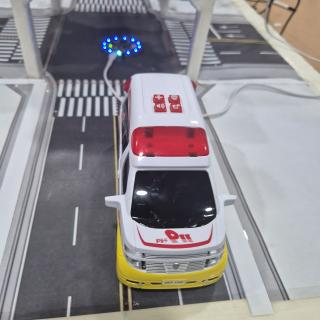Ambulance: (105, 73, 236, 289)
